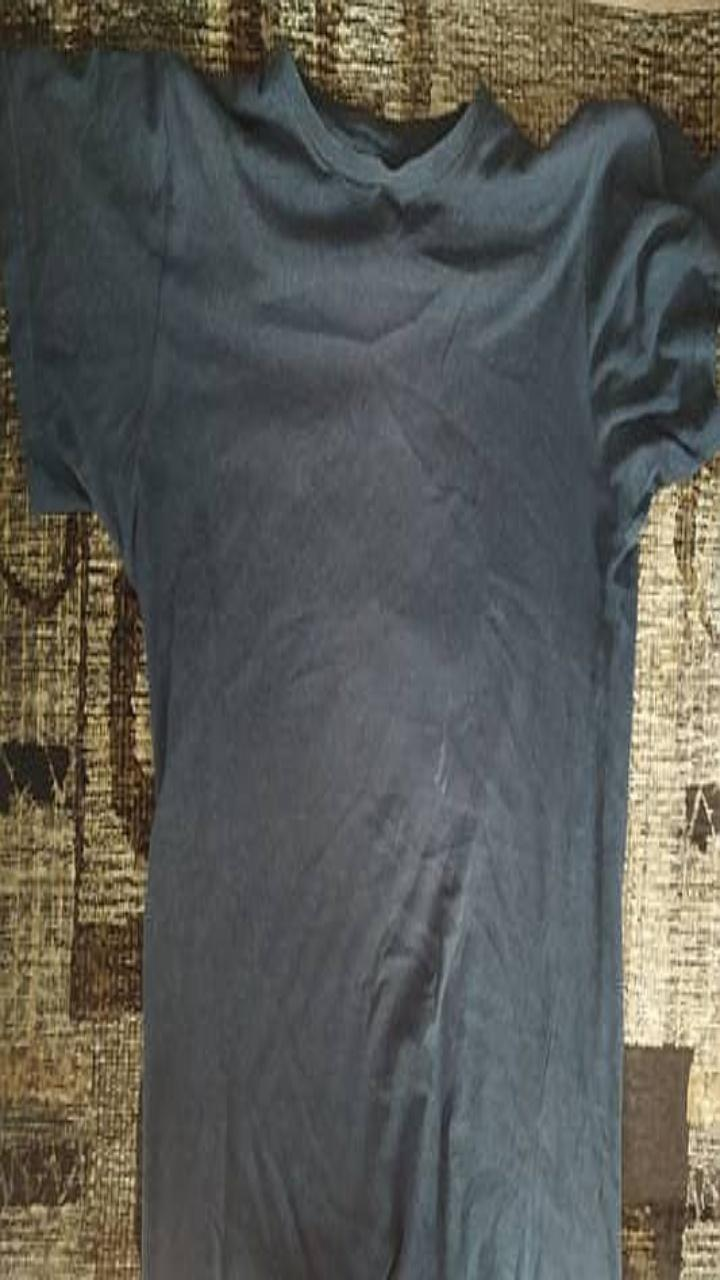T-Shirt: (0, 40, 719, 1279)
